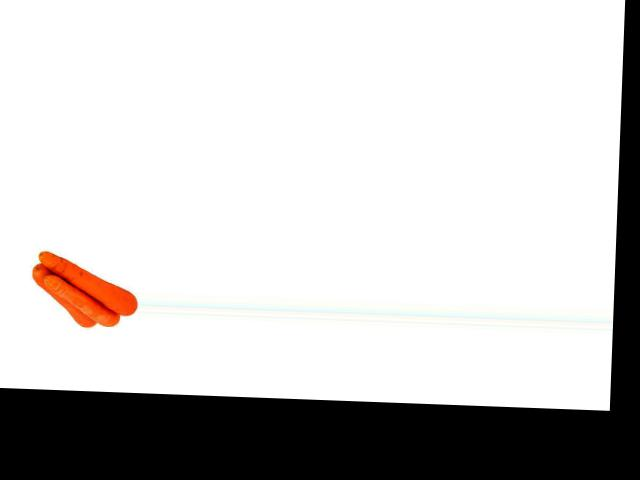carrot: (39, 252, 140, 316)
